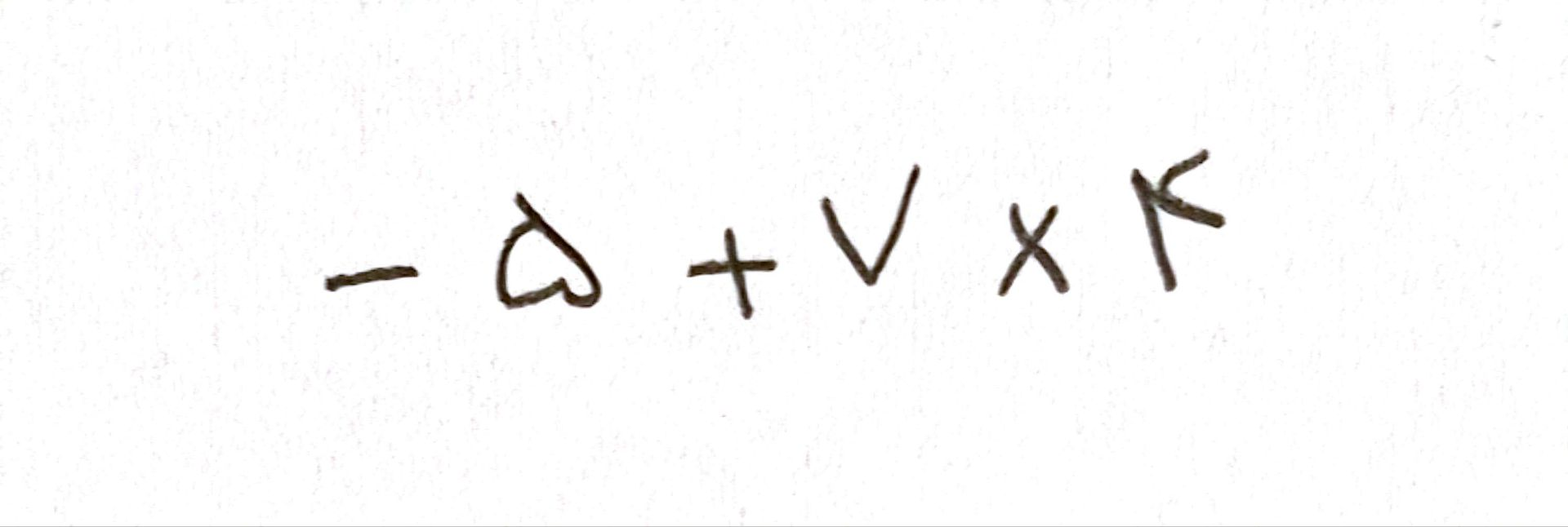character: (495, 185, 605, 309), (1131, 150, 1225, 292), (820, 161, 923, 287), (685, 228, 777, 320), (997, 203, 1064, 292), (324, 263, 418, 292)
